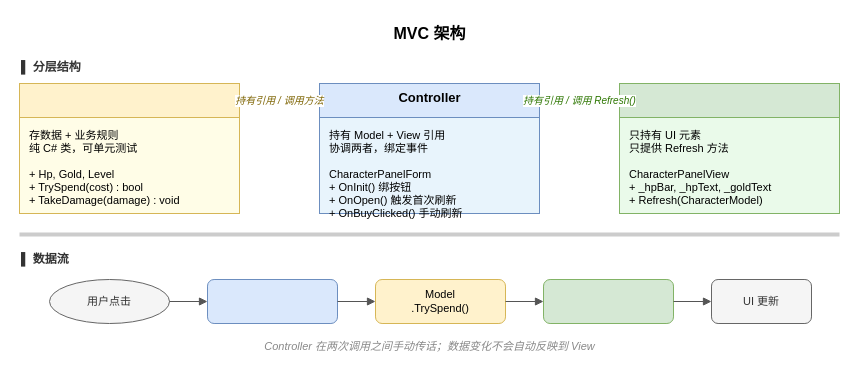
This 858x370 diagram has some shape labels left out. Each missing label, with the box of its shape:
Controller .OnBuyClicked(): (206, 278, 338, 324)
Model: (18, 82, 240, 118)
View: (618, 82, 840, 118)
View .Refresh(model): (542, 278, 674, 324)
